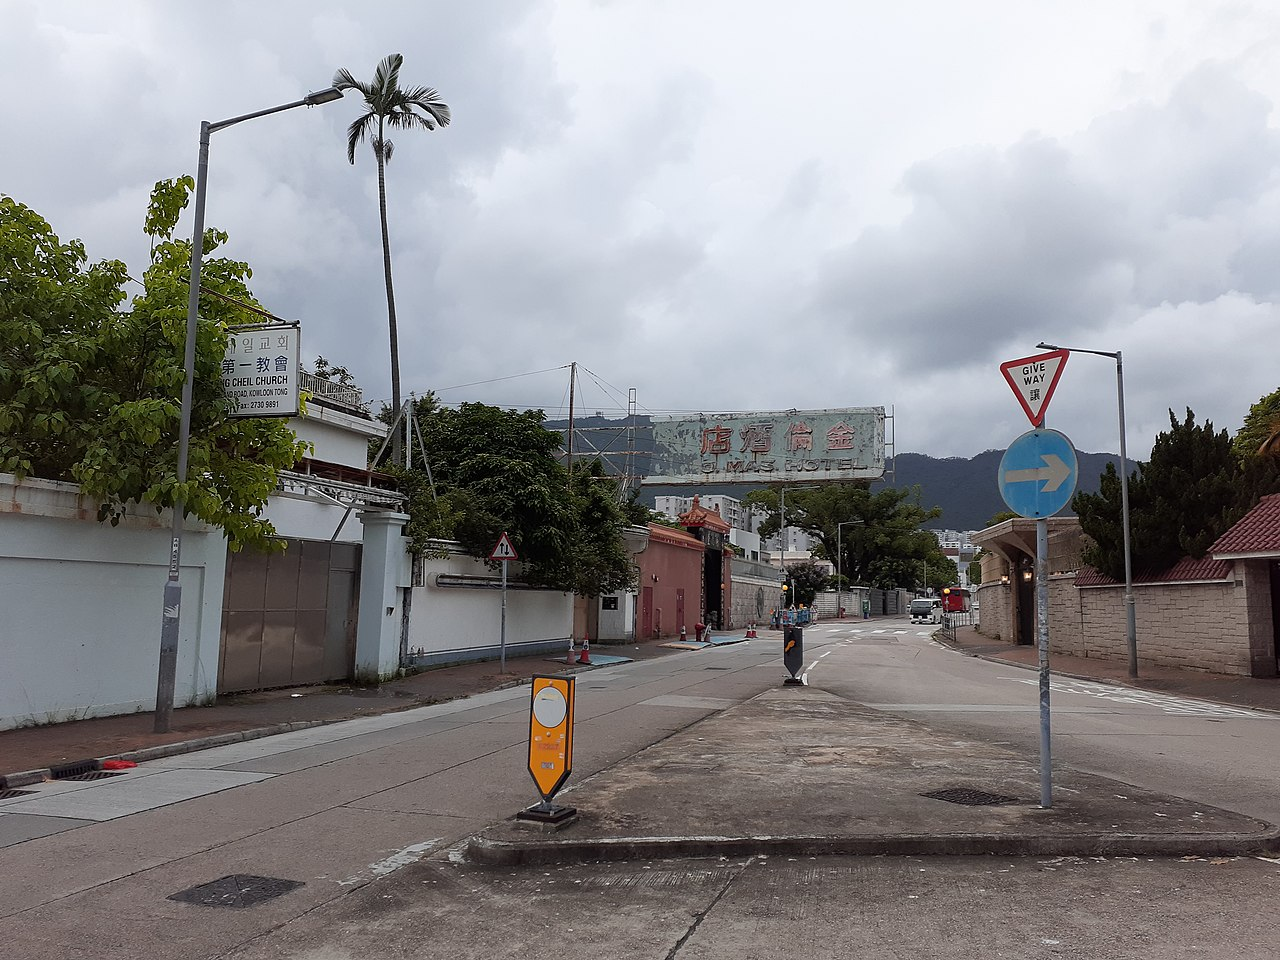Give Way: (997, 343, 1074, 425)
Turn Right: (994, 428, 1079, 515)
Two way: (489, 532, 519, 560)
